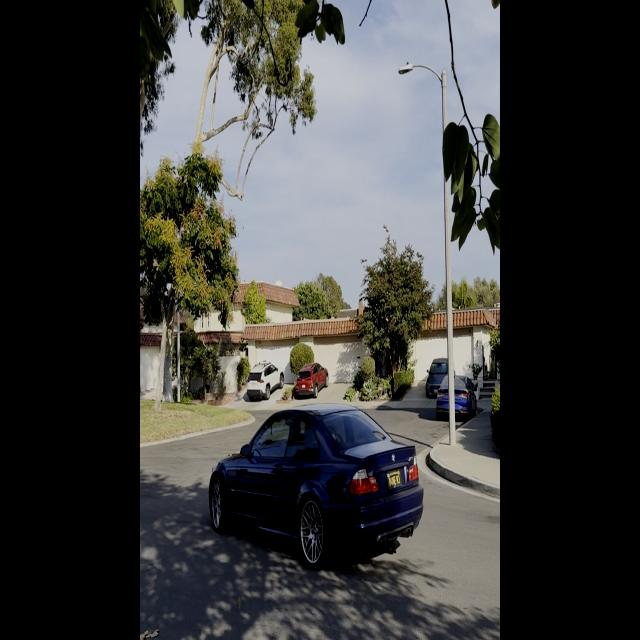Carbeetle: (205, 397, 430, 574)
Civilian: (436, 375, 475, 421), (246, 362, 285, 401), (426, 351, 457, 398), (292, 364, 324, 399)
